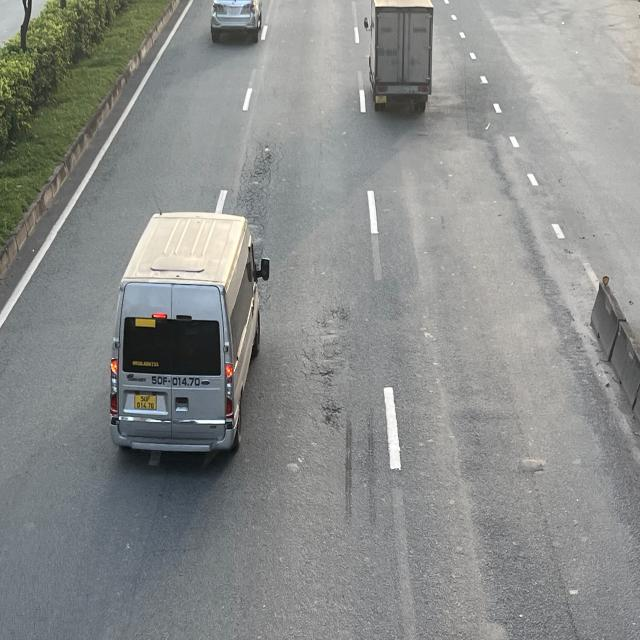car: (206, 0, 262, 41)
truck: (363, 0, 432, 111)
van: (108, 210, 272, 458)
